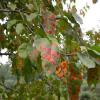Apple rust leaf: (38, 41, 63, 79), (66, 60, 89, 99), (39, 4, 58, 41), (21, 52, 34, 84), (85, 60, 97, 89), (27, 44, 39, 64), (0, 22, 6, 49)
